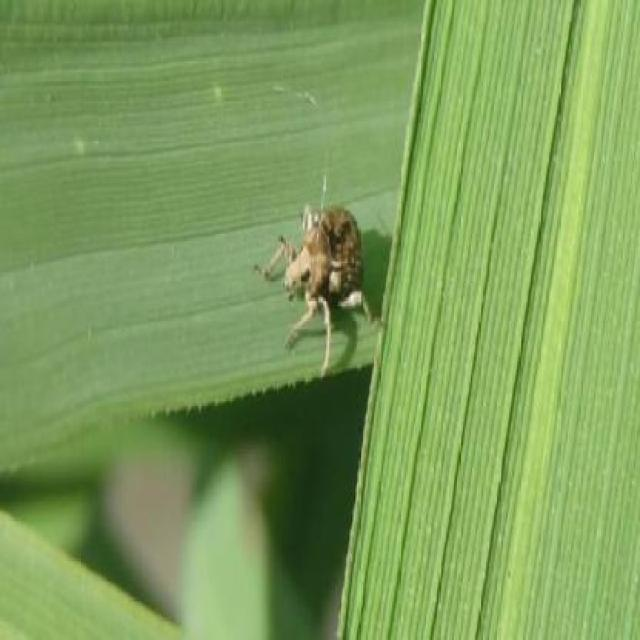rice-bug: (272, 181, 373, 356)
